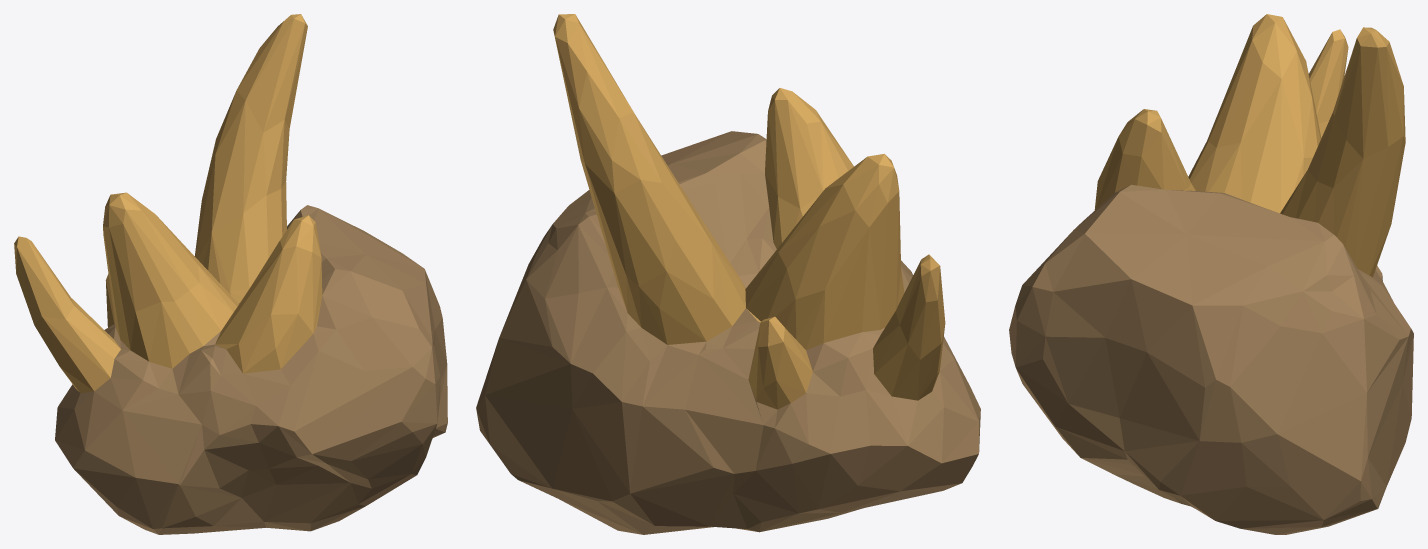
Rendered from SM_LP_FossilNode_6.fbx.
3 views of the same model, side by side, from view 1: azimuth 30°, elevation 25°; view 2: azimuth 150°, elevation 25°; view 3: azimuth 270°, elevation 25° (orthographic). The views are drawn at different scales.
Parts seen in each view (by area): view 1: SM_LP_FossilNode_6; view 2: SM_LP_FossilNode_6; view 3: SM_LP_FossilNode_6.
Part boxes in pixels (x1,y1,x2,y2): SM_LP_FossilNode_6: (14, 14, 447, 534); SM_LP_FossilNode_6: (476, 14, 980, 534); SM_LP_FossilNode_6: (1009, 14, 1413, 534).
Size of the model in its own units: 0.8879 by 0.9681 by 0.7017.
